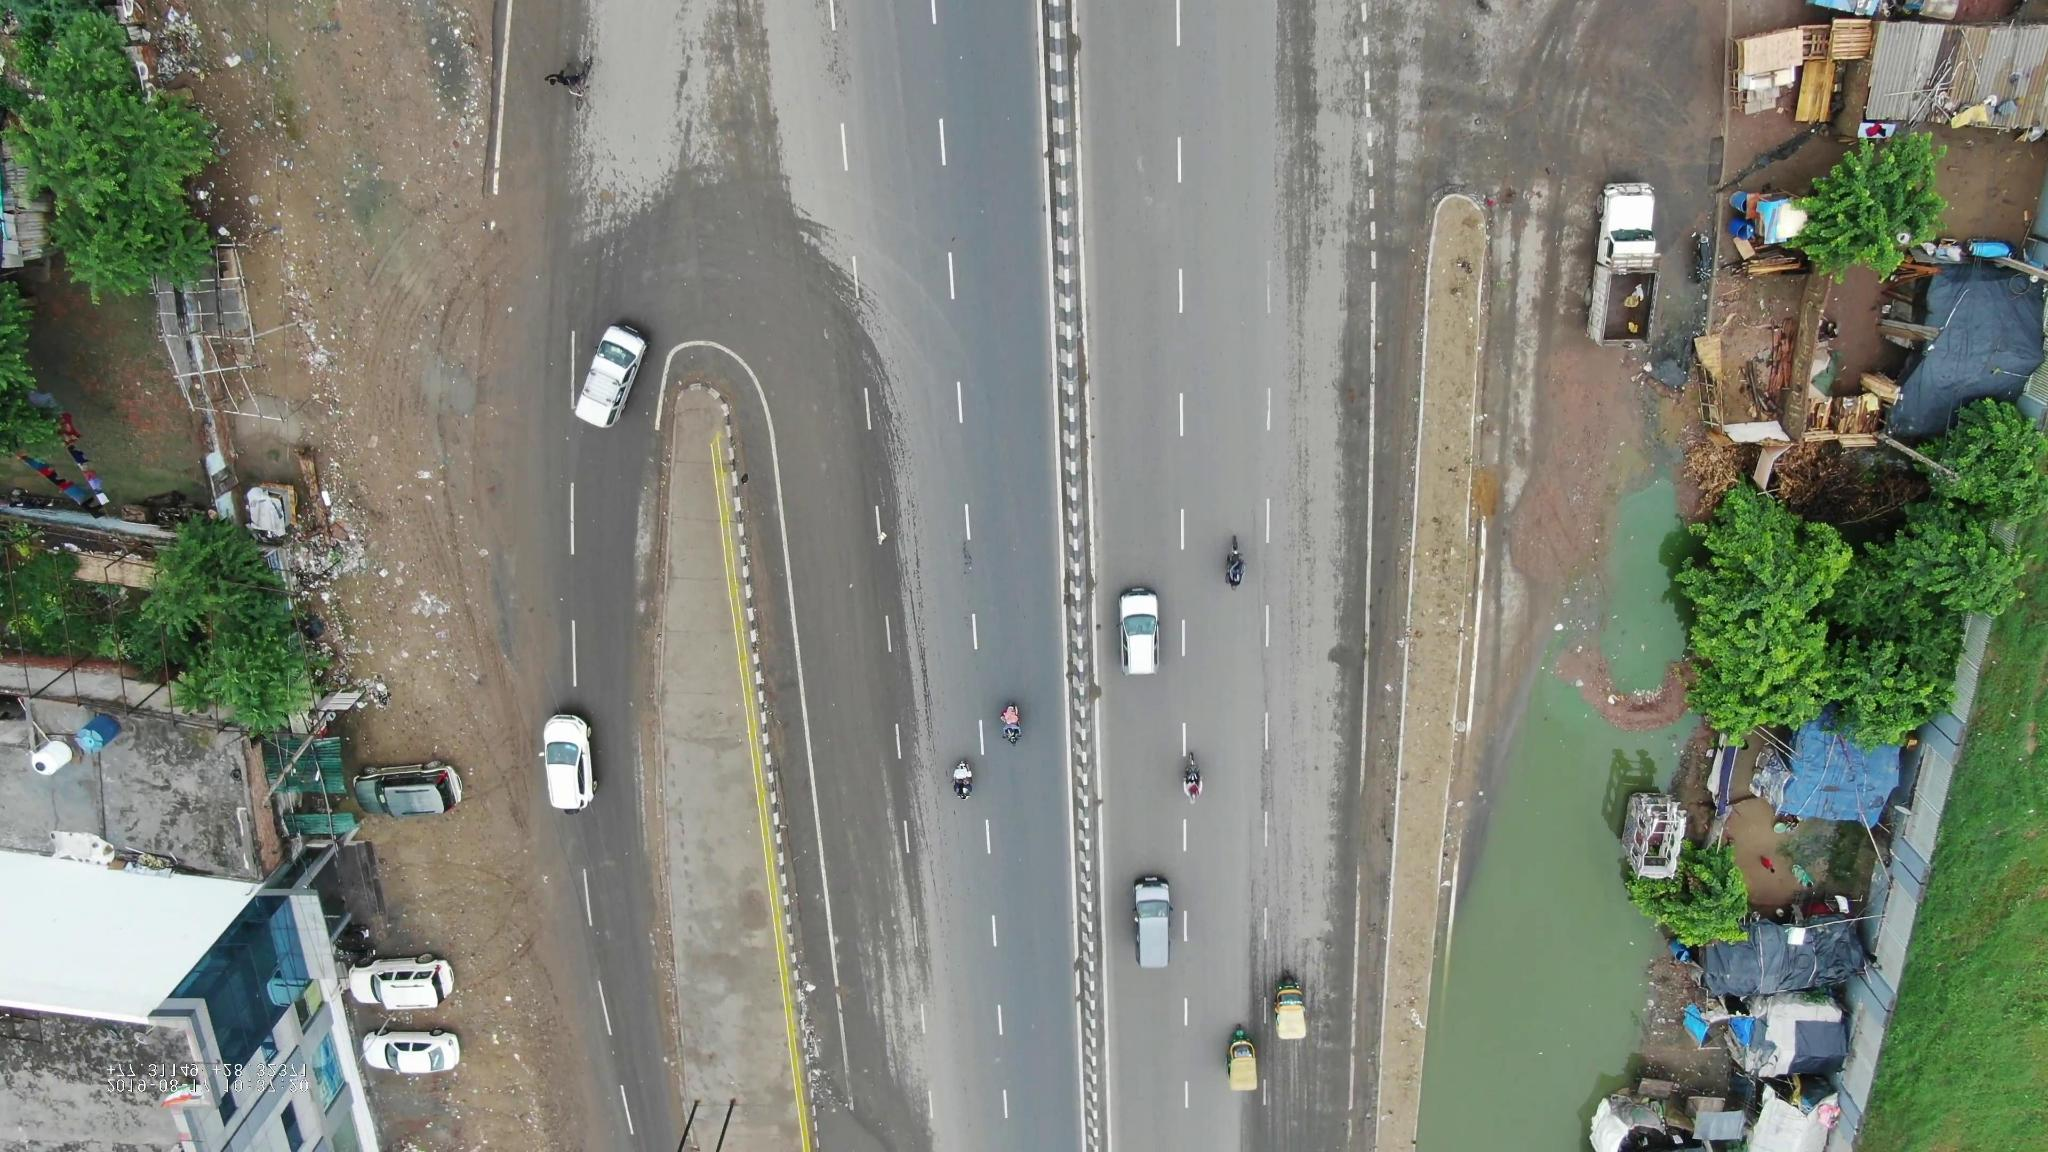Ravelling: (897, 473, 949, 722)
Waterlogging: (1397, 678, 1695, 1148), (1582, 489, 1694, 717)
